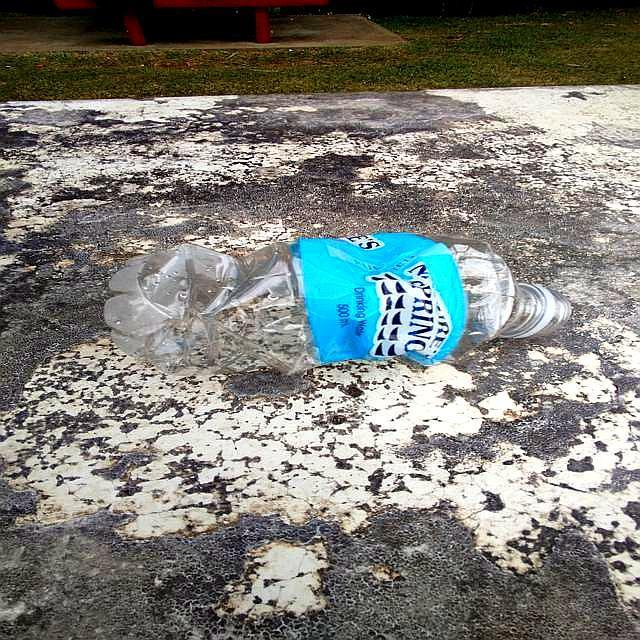Non-biodegradable: (107, 237, 577, 367)
